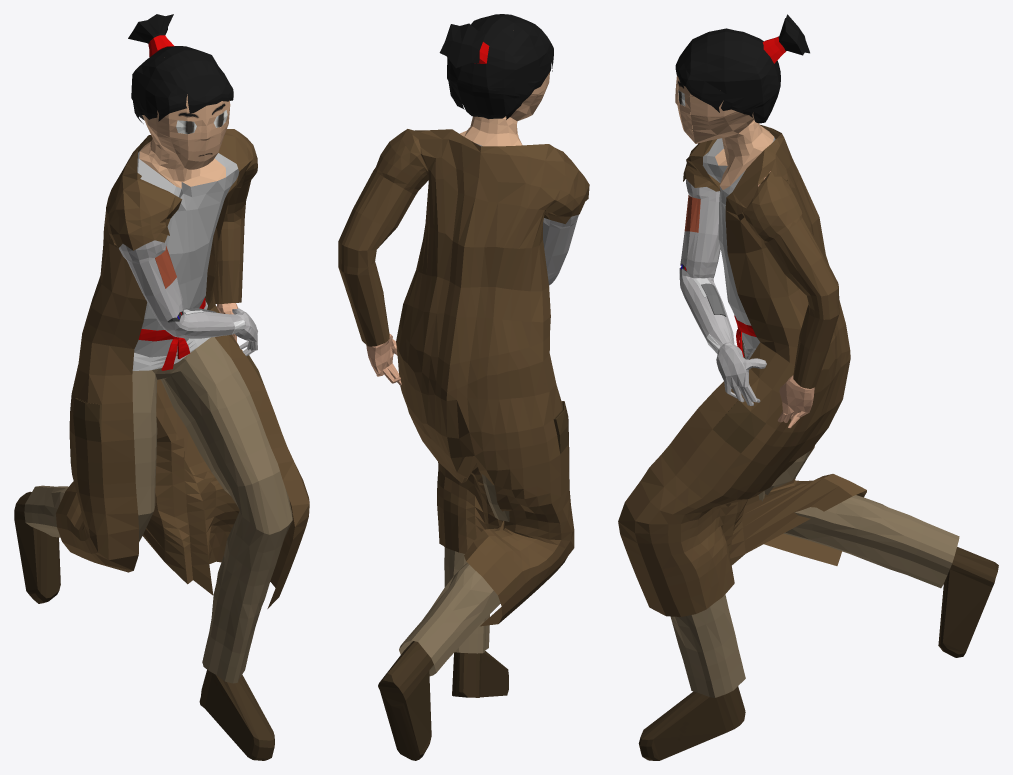
Rendered from One_RF_000016.obj.
The picture shows the model from 3 angles, left to right: view 1: azimuth 30°, elevation 25°; view 2: azimuth 150°, elevation 25°; view 3: azimuth 270°, elevation 25°; orthographic projection. The views are drawn at different scales.
Parts seen in each view (by area): view 1: Hair_Cube.004; view 2: Hair_Cube.004; view 3: Hair_Cube.004.
Boxes of the visible parts, x1,y1,x2,y2 form: Hair_Cube.004: (14,14,309,760); Hair_Cube.004: (338,14,589,760); Hair_Cube.004: (618,14,998,760).
Bounding box in the file's own units: 1.09 × 3.85 × 1.84.
